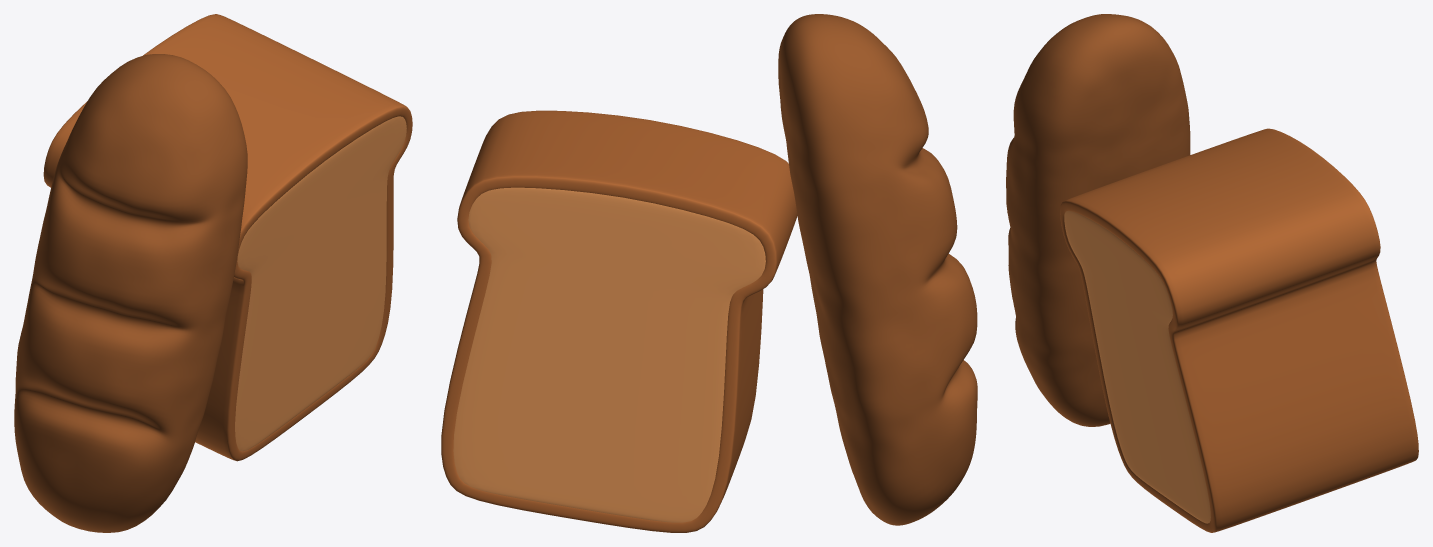
Rendered from bread.glb.
3 views of the same model, side by side, from view 1: azimuth 30°, elevation 25°; view 2: azimuth 150°, elevation 25°; view 3: azimuth 270°, elevation 25° (orthographic). The views are drawn at different scales.
Visible parts, largest first — view 1: Cube.099, Cube.079, Cube.080; view 2: Cube.079, Cube.099, Cube.080; view 3: Cube.080, Cube.099, Cube.079.
Boxes of the visible parts, box(x1,y1,x2,y2) form: Cube.099: box(14, 54, 247, 532); Cube.079: box(235, 116, 406, 451); Cube.080: box(43, 14, 412, 461); Cube.079: box(453, 187, 765, 522); Cube.099: box(778, 14, 977, 525); Cube.080: box(441, 110, 797, 532); Cube.080: box(1060, 128, 1418, 532); Cube.099: box(1006, 14, 1190, 426); Cube.079: box(1064, 211, 1210, 523).
Size of what is drawn, in the model's own units: 2.1 by 2.14 by 1.84.
